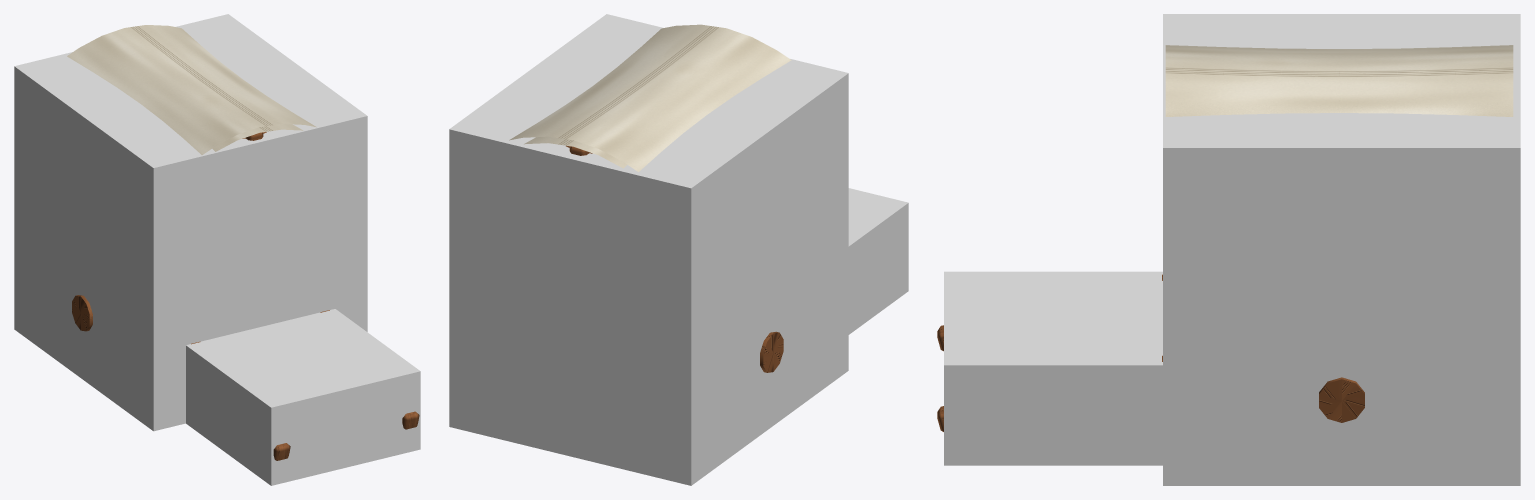
File: SM_Cart.fbx
3 renders of one model, left to right at view 1: azimuth 30°, elevation 25°; view 2: azimuth 150°, elevation 25°; view 3: azimuth 270°, elevation 25°, orthographic. The views are drawn at different scales.
Visible parts, largest first — view 1: Cart_Col0, Cart_Col1, Cart_Body; view 2: Cart_Col0, Cart_Body, Cart_Col1; view 3: Cart_Col0, Cart_Col1, Cart_Body.
Boxes of the visible parts, left/top/right/bottom form: Cart_Col0: left=14, top=14, right=367, bottom=431; Cart_Col1: left=186, top=309, right=420, bottom=485; Cart_Body: left=67, top=25, right=419, bottom=460; Cart_Col0: left=449, top=14, right=848, bottom=485; Cart_Body: left=509, top=24, right=791, bottom=372; Cart_Col1: left=848, top=188, right=908, bottom=334; Cart_Col0: left=1163, top=14, right=1520, bottom=485; Cart_Col1: left=944, top=271, right=1162, bottom=465; Cart_Body: left=937, top=45, right=1513, bottom=431.
Size of the model in its own units: 4.54 by 5.61 by 8.11.
